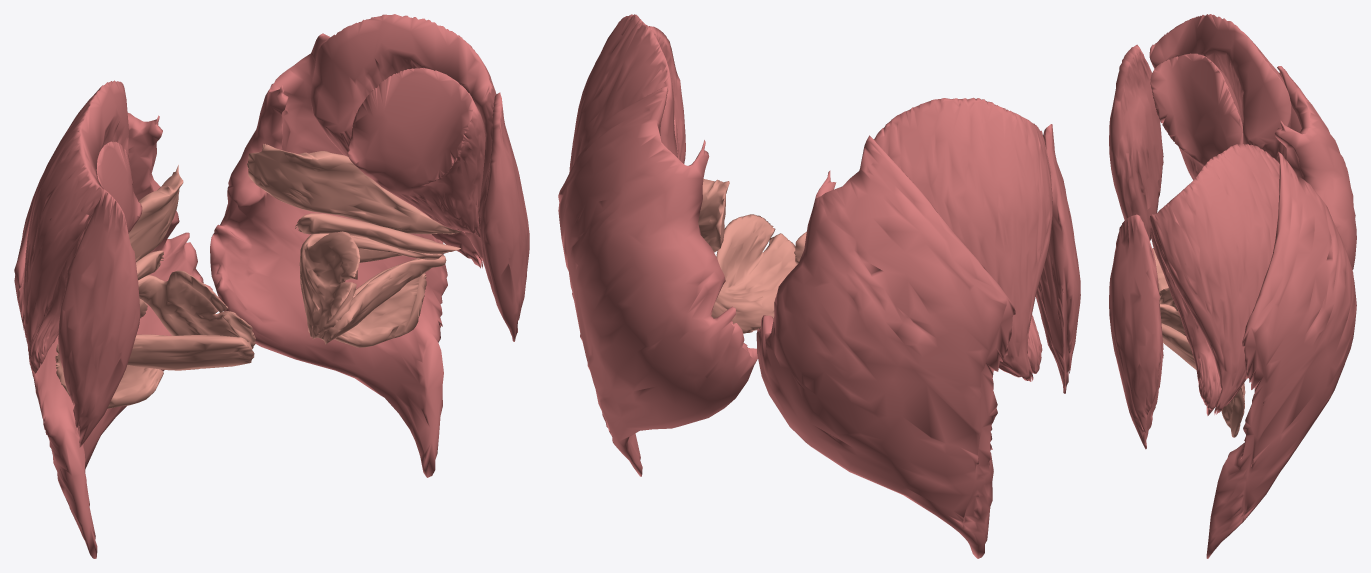
The model's file is z-anatomy-gluteal-muscles.glb.
3 views of the same model, side by side, from view 1: azimuth 30°, elevation 25°; view 2: azimuth 150°, elevation 25°; view 3: azimuth 270°, elevation 25° (orthographic). The views are drawn at different scales.
Parts seen in each view (by area): view 1: superficial-gluteal-muscles-gluteus-maximus-muscle-left__Glu, superficial-gluteal-muscles-gluteus-minimus-muscle-left__Glu, superficial-gluteal-muscles-tensor-fasciae-latae-right__Tens, superficial-gluteal-muscles-gluteus-medius-muscle-left__Glut, superficial-gluteal-muscles-gluteus-medius-muscle-right__Glu, superficial-gluteal-muscles-gluteus-maximus-muscle-right__Gl, deep-gluteal-muscles-piriformis-muscle-left__Piriformis musc, superficial-gluteal-muscles-tensor-fasciae-latae-left__Tenso, deep-gluteal-muscles-obturator-internus-left__Obturator inte, deep-gluteal-muscles-obturator-internus-right__Obturator int, deep-gluteal-muscles-obturator-externus-right__Obturator ext, superficial-gluteal-muscles-gluteus-minimus-muscle-right__Gl (+5 smaller); view 2: superficial-gluteal-muscles-gluteus-maximus-muscle-right__Gl, superficial-gluteal-muscles-gluteus-maximus-muscle-left__Glu, superficial-gluteal-muscles-gluteus-medius-muscle-right__Glu, superficial-gluteal-muscles-gluteus-medius-muscle-left__Glut, deep-gluteal-muscles-obturator-internus-left__Obturator inte, superficial-gluteal-muscles-tensor-fasciae-latae-right__Tens, deep-gluteal-muscles-piriformis-muscle-left__Piriformis musc, superficial-gluteal-muscles-tensor-fasciae-latae-left__Tenso; view 3: superficial-gluteal-muscles-gluteus-maximus-muscle-left__Glu, superficial-gluteal-muscles-gluteus-medius-muscle-left__Glut, superficial-gluteal-muscles-tensor-fasciae-latae-left__Tenso, superficial-gluteal-muscles-gluteus-medius-muscle-right__Glu, superficial-gluteal-muscles-gluteus-minimus-muscle-right__Gl, superficial-gluteal-muscles-tensor-fasciae-latae-right__Tens, superficial-gluteal-muscles-gluteus-maximus-muscle-right__Gl, superficial-gluteal-muscles-gluteus-minimus-muscle-left__Glu, deep-gluteal-muscles-obturator-externus-left__Obturator exte, deep-gluteal-muscles-quadratus-femoris-muscle-left__Quadratu, deep-gluteal-muscles-obturator-internus-left__Obturator inte.
Boxes of the visible parts, x1,y1,x2,y2 form: superficial-gluteal-muscles-gluteus-maximus-muscle-left__Glu: [210, 33, 447, 477]; superficial-gluteal-muscles-gluteus-minimus-muscle-left__Glu: [347, 68, 485, 260]; superficial-gluteal-muscles-tensor-fasciae-latae-right__Tens: [58, 189, 140, 447]; superficial-gluteal-muscles-gluteus-medius-muscle-left__Glut: [310, 14, 496, 268]; superficial-gluteal-muscles-gluteus-medius-muscle-right__Glu: [23, 80, 133, 377]; superficial-gluteal-muscles-gluteus-maximus-muscle-right__Gl: [14, 83, 212, 558]; deep-gluteal-muscles-piriformis-muscle-left__Piriformis musc: [247, 144, 461, 234]; superficial-gluteal-muscles-tensor-fasciae-latae-left__Tenso: [478, 92, 529, 341]; deep-gluteal-muscles-obturator-internus-left__Obturator inte: [299, 231, 442, 338]; deep-gluteal-muscles-obturator-internus-right__Obturator int: [138, 270, 255, 348]; deep-gluteal-muscles-obturator-externus-right__Obturator ext: [127, 334, 254, 370]; superficial-gluteal-muscles-gluteus-minimus-muscle-right__Gl: [28, 141, 142, 373]; superficial-gluteal-muscles-gluteus-maximus-muscle-right__Gl: [756, 135, 1015, 558]; superficial-gluteal-muscles-gluteus-maximus-muscle-left__Glu: [558, 86, 757, 476]; superficial-gluteal-muscles-gluteus-medius-muscle-right__Glu: [873, 97, 1052, 381]; superficial-gluteal-muscles-gluteus-medius-muscle-left__Glut: [569, 14, 677, 172]; deep-gluteal-muscles-obturator-internus-left__Obturator inte: [711, 214, 797, 333]; superficial-gluteal-muscles-tensor-fasciae-latae-right__Tens: [1035, 124, 1080, 393]; deep-gluteal-muscles-piriformis-muscle-left__Piriformis musc: [698, 179, 729, 252]; superficial-gluteal-muscles-tensor-fasciae-latae-left__Tenso: [649, 26, 685, 163]; superficial-gluteal-muscles-gluteus-maximus-muscle-left__Glu: [1206, 151, 1356, 558]; superficial-gluteal-muscles-gluteus-medius-muscle-left__Glut: [1149, 144, 1279, 414]; superficial-gluteal-muscles-tensor-fasciae-latae-left__Tenso: [1109, 214, 1163, 449]; superficial-gluteal-muscles-gluteus-medius-muscle-right__Glu: [1149, 14, 1291, 162]; superficial-gluteal-muscles-gluteus-minimus-muscle-right__Gl: [1150, 53, 1243, 180]; superficial-gluteal-muscles-tensor-fasciae-latae-right__Tens: [1109, 44, 1163, 240]; superficial-gluteal-muscles-gluteus-maximus-muscle-right__Gl: [1206, 66, 1356, 415]; superficial-gluteal-muscles-gluteus-minimus-muscle-left__Glu: [1150, 228, 1221, 409]; deep-gluteal-muscles-obturator-externus-left__Obturator exte: [1161, 323, 1196, 369]; deep-gluteal-muscles-quadratus-femoris-muscle-left__Quadratu: [1221, 383, 1245, 437]; deep-gluteal-muscles-obturator-internus-left__Obturator inte: [1159, 288, 1185, 335].
Size of the model in its own units: 0.3042 by 0.2875 by 0.1599.
